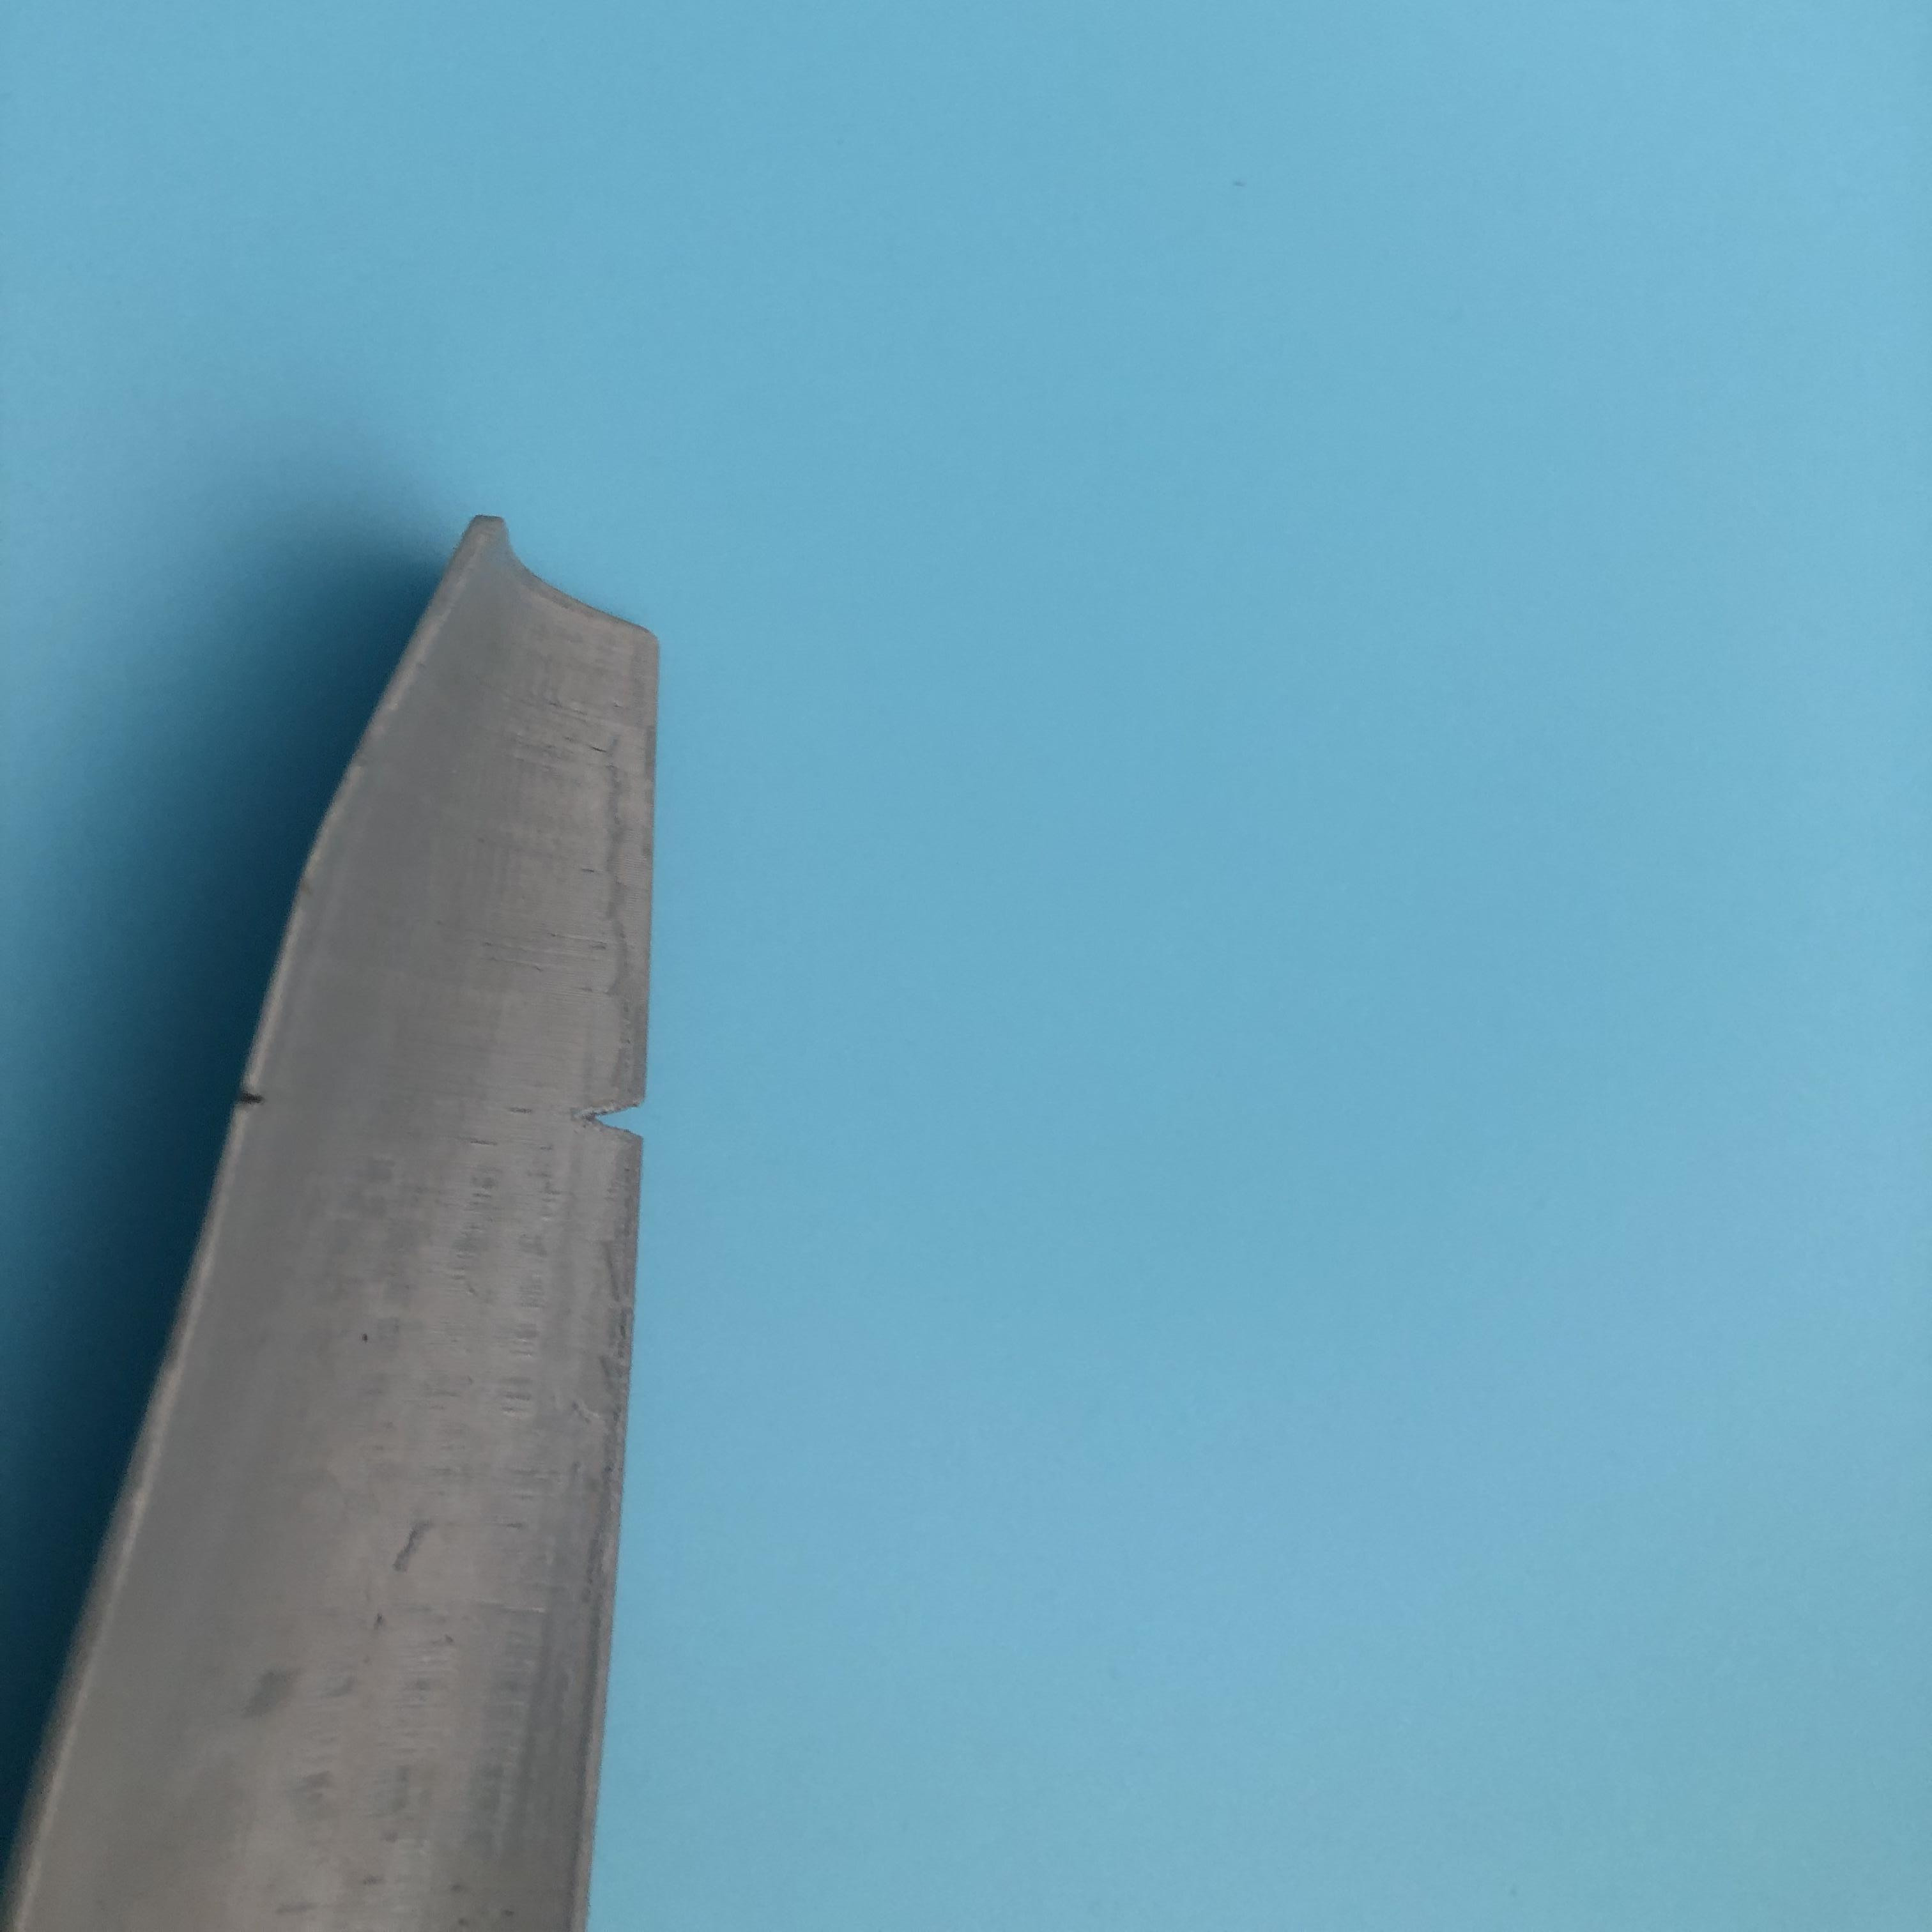groove: (584, 1083, 648, 1168), (226, 1074, 294, 1132)
